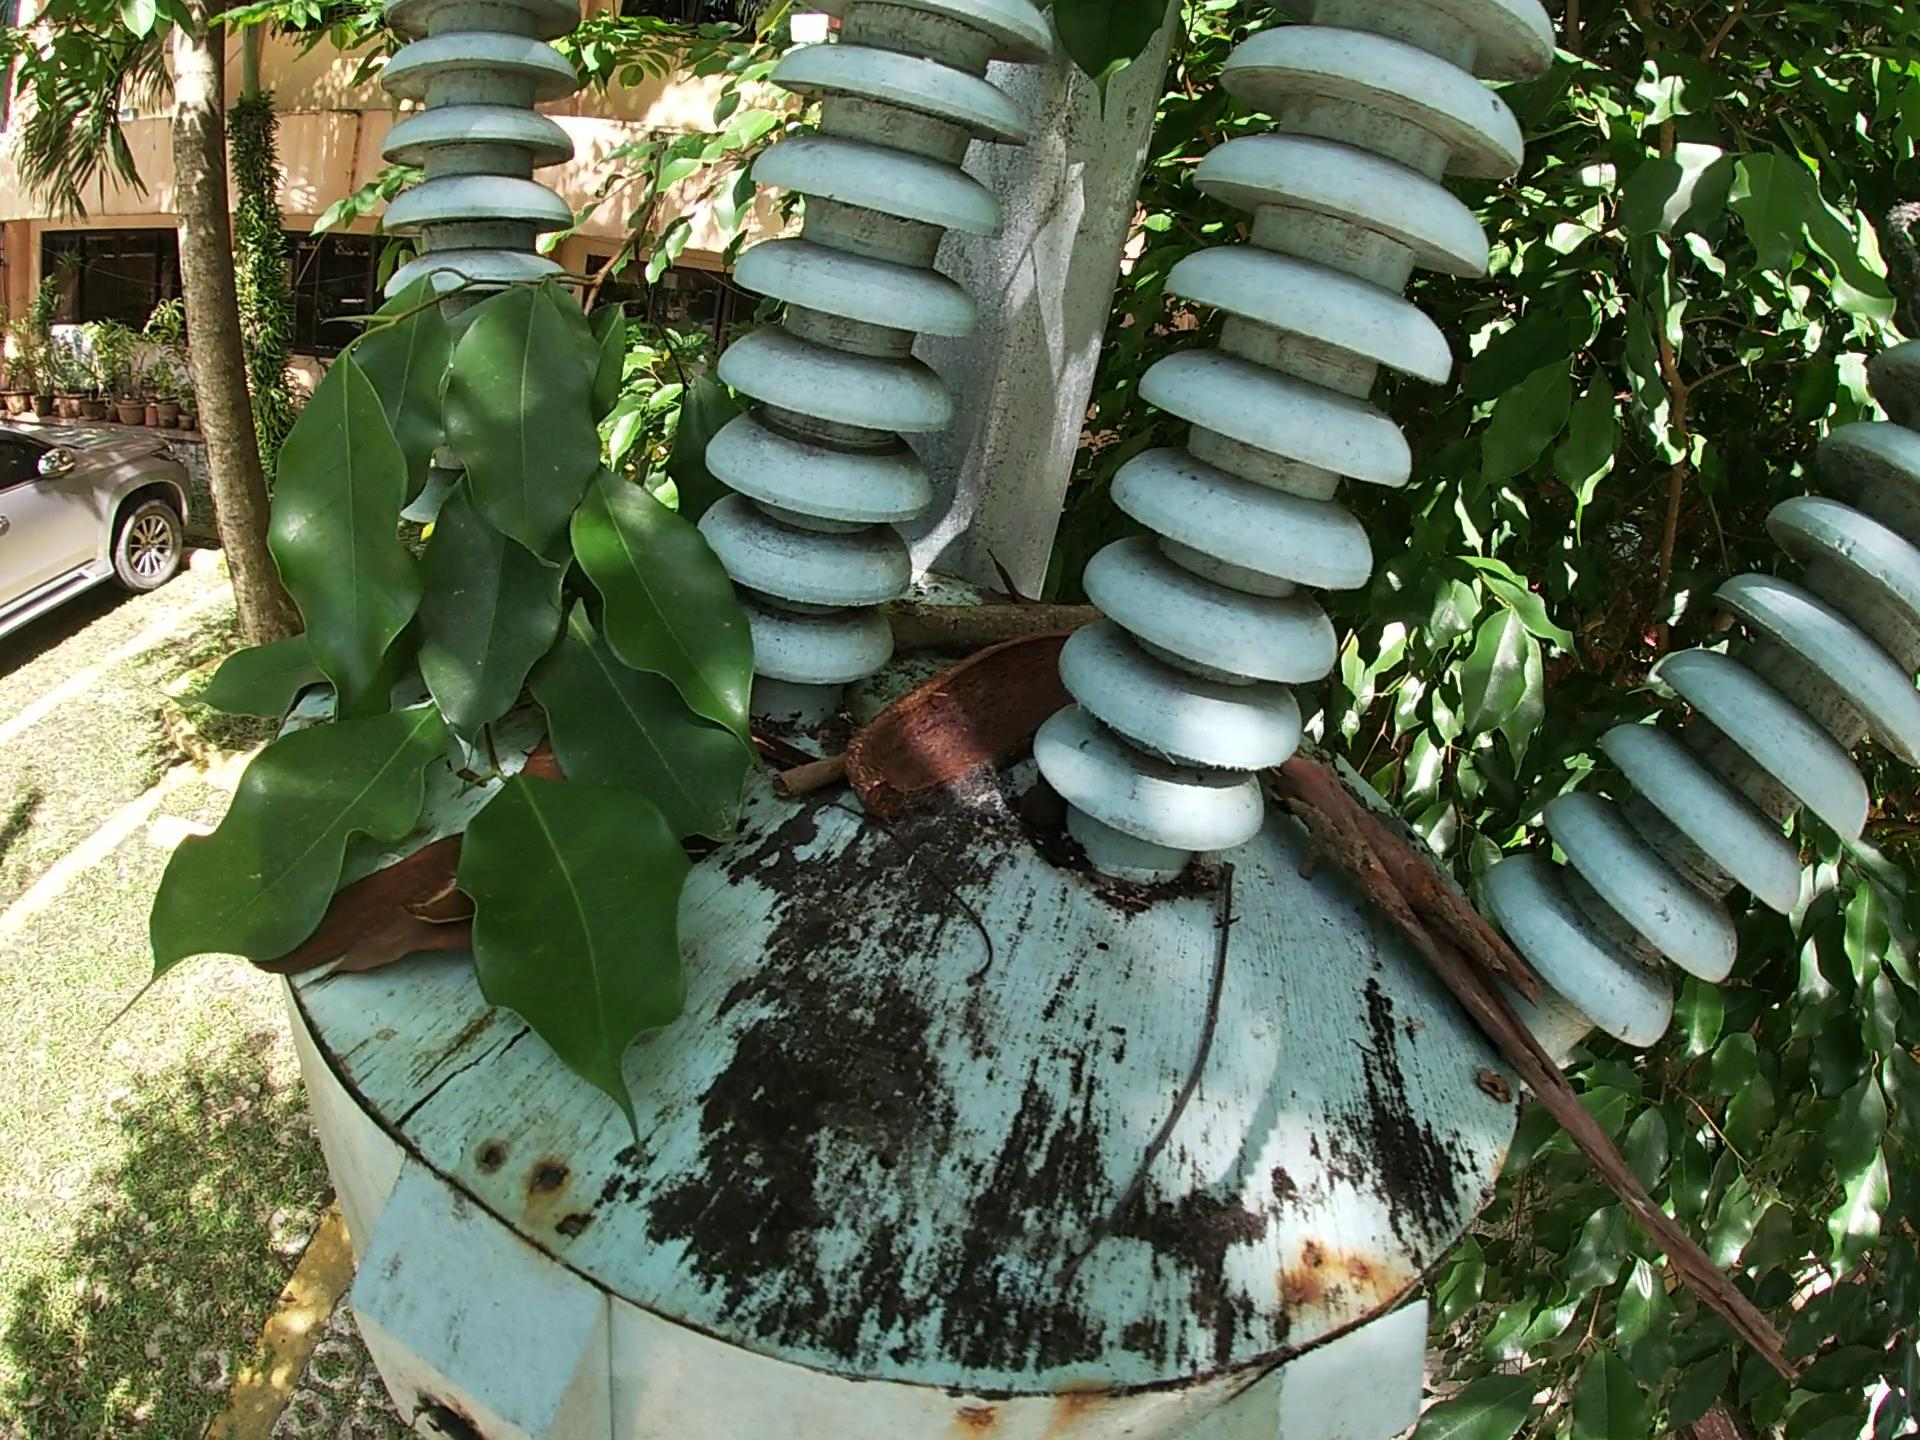branch with leaves: (124, 116, 804, 1169)
leaf: (324, 909, 494, 1007), (509, 731, 571, 796), (736, 731, 813, 764)
mahogany fruit: (835, 643, 1108, 818), (259, 838, 460, 971)
tree branch: (1284, 743, 1829, 1393), (1036, 859, 1264, 1314), (824, 818, 998, 1004), (859, 588, 1154, 663), (763, 762, 853, 817)
